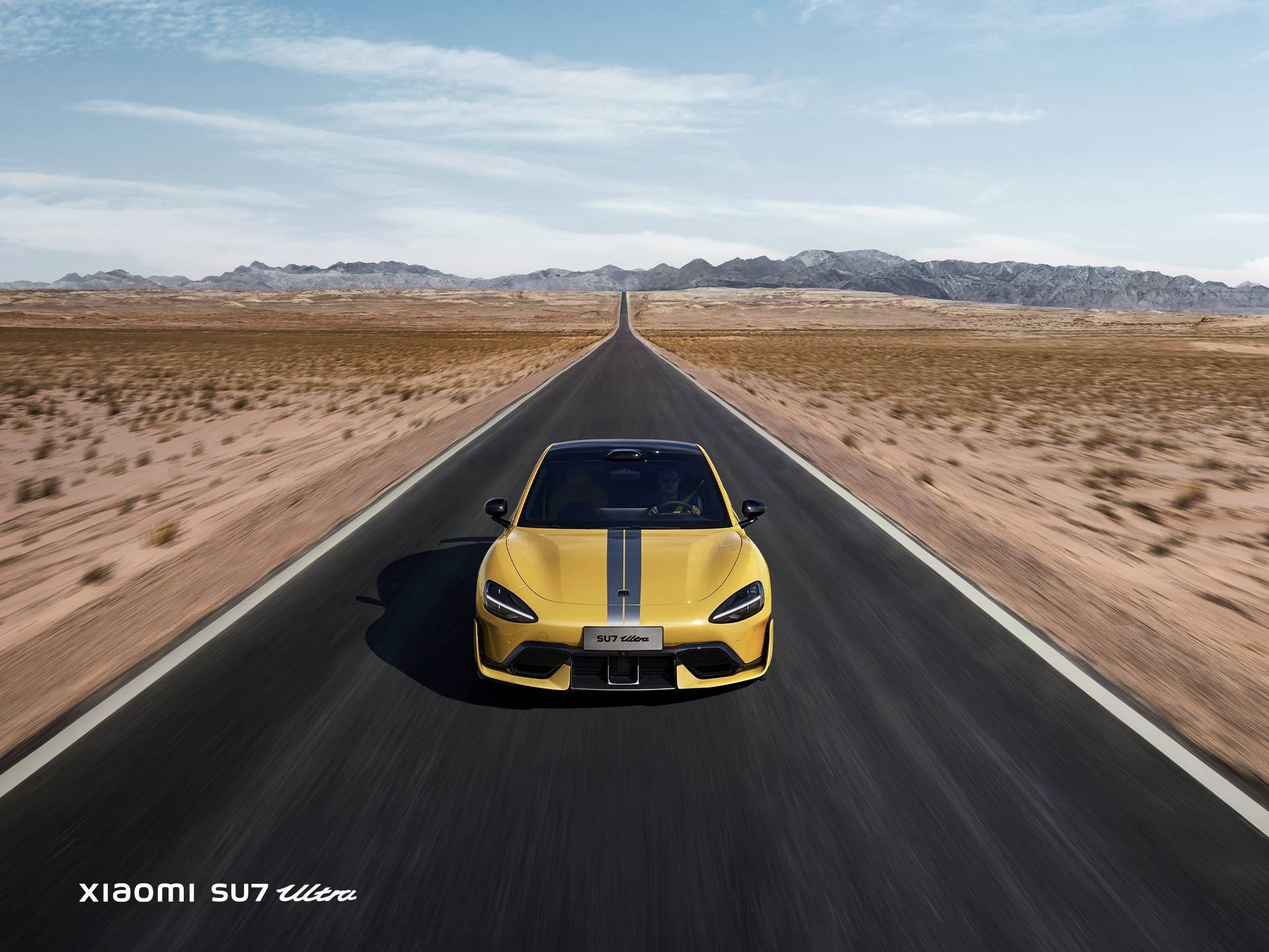su7: (474, 432, 778, 701)
